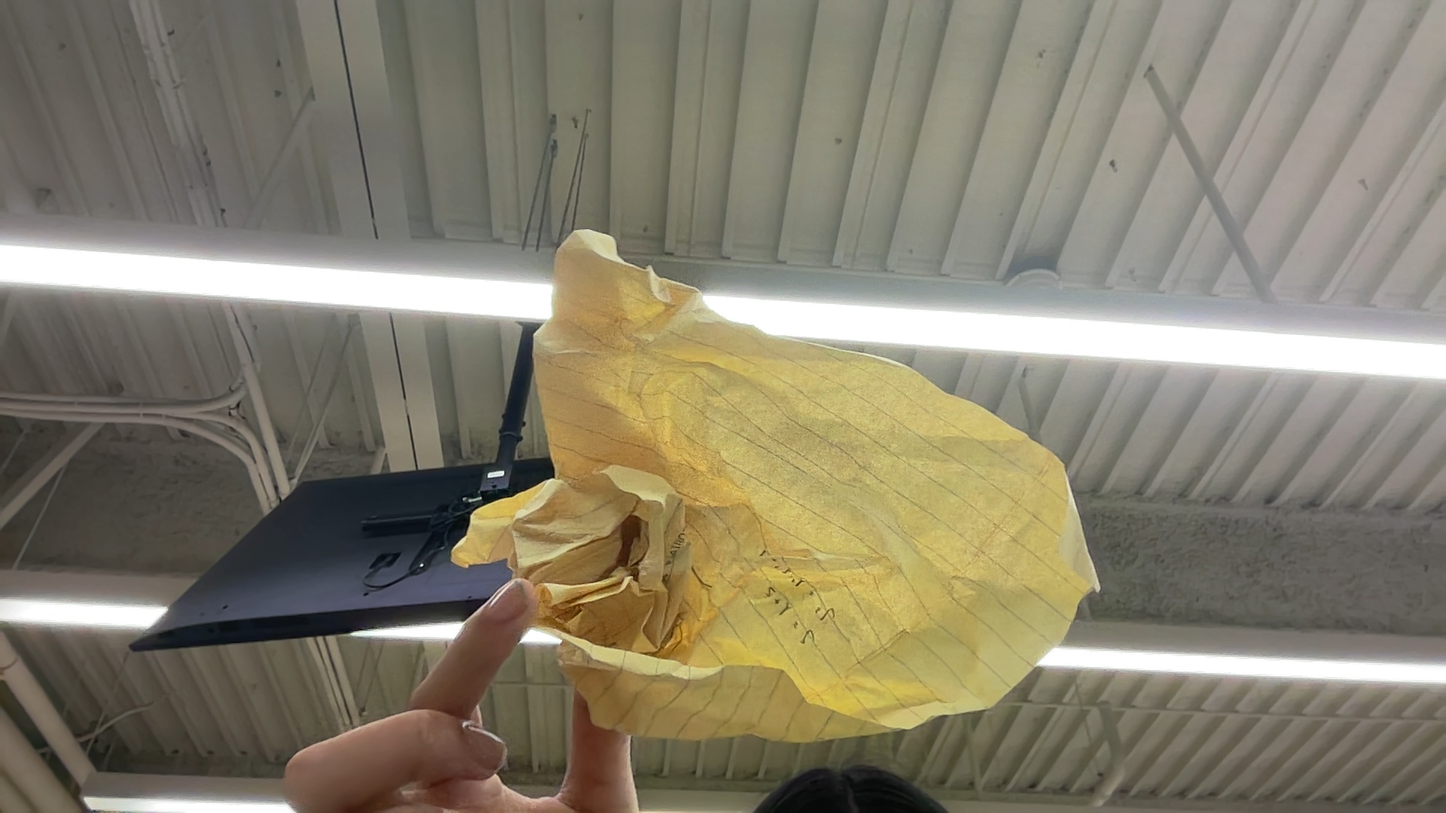Paper: (501, 242, 1131, 743)
